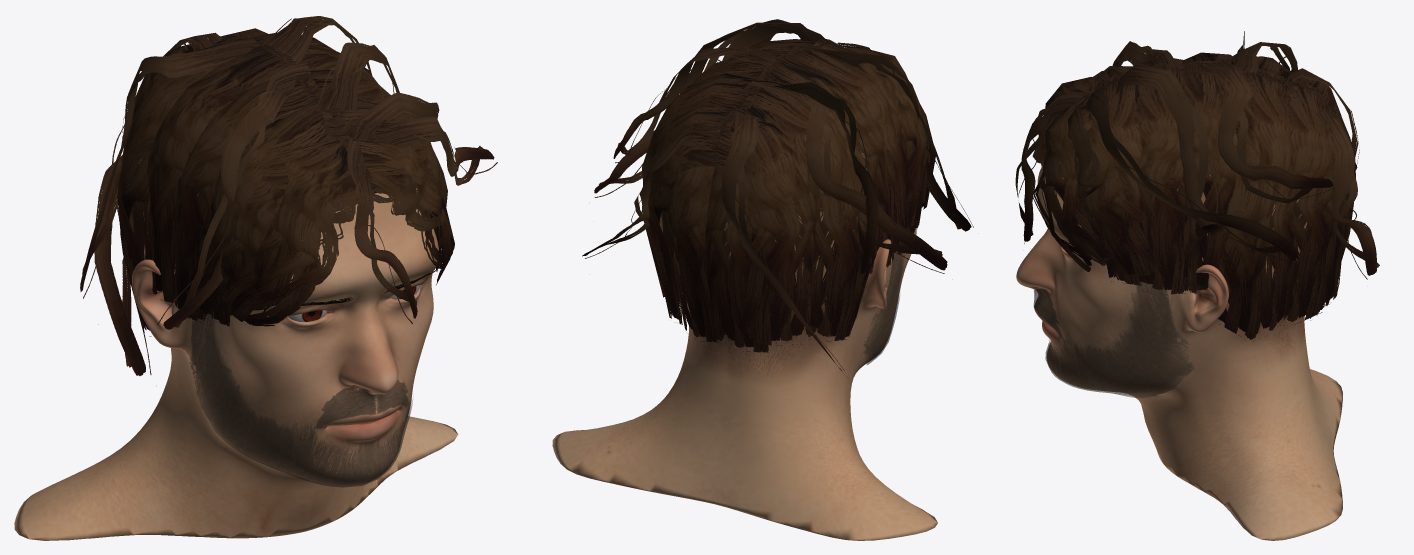
The model's file is street01-head-authored.glb.
3 views of the same model, side by side, from view 1: azimuth 30°, elevation 25°; view 2: azimuth 150°, elevation 25°; view 3: azimuth 270°, elevation 25° (orthographic). The views are drawn at different scales.
Parts seen in each view (by area): view 1: Street01_Cortu_AuthoredHair_Runtime, Street01_Authored_HeadRuntime_Runtime, Street01_grinsegold_full_beard_Runtime, Street01_grinsegold_moustache_Runtime; view 2: Street01_Cortu_AuthoredHair_Runtime, Street01_Authored_HeadRuntime_Runtime, Street01_grinsegold_full_beard_Runtime; view 3: Street01_Cortu_AuthoredHair_Runtime, Street01_Authored_HeadRuntime_Runtime, Street01_grinsegold_full_beard_Runtime, Street01_grinsegold_moustache_Runtime.
Part boxes in pixels (left/top/right/bottom): Street01_Cortu_AuthoredHair_Runtime: left=80, top=16, right=497, bottom=375; Street01_Authored_HeadRuntime_Runtime: left=14, top=158, right=458, bottom=540; Street01_grinsegold_full_beard_Runtime: left=189, top=312, right=412, bottom=487; Street01_grinsegold_moustache_Runtime: left=313, top=380, right=408, bottom=428; Street01_Cortu_AuthoredHair_Runtime: left=582, top=19, right=973, bottom=376; Street01_Authored_HeadRuntime_Runtime: left=552, top=125, right=937, bottom=540; Street01_grinsegold_full_beard_Runtime: left=863, top=251, right=904, bottom=364; Street01_Cortu_AuthoredHair_Runtime: left=1015, top=31, right=1379, bottom=341; Street01_Authored_HeadRuntime_Runtime: left=1016, top=158, right=1342, bottom=540; Street01_grinsegold_full_beard_Runtime: left=1045, top=282, right=1194, bottom=398; Street01_grinsegold_moustache_Runtime: left=1033, top=289, right=1063, bottom=339.
Bounding box in the file's own units: 0.2885 × 0.302 × 0.2624.
6 materials, 6 textured.
